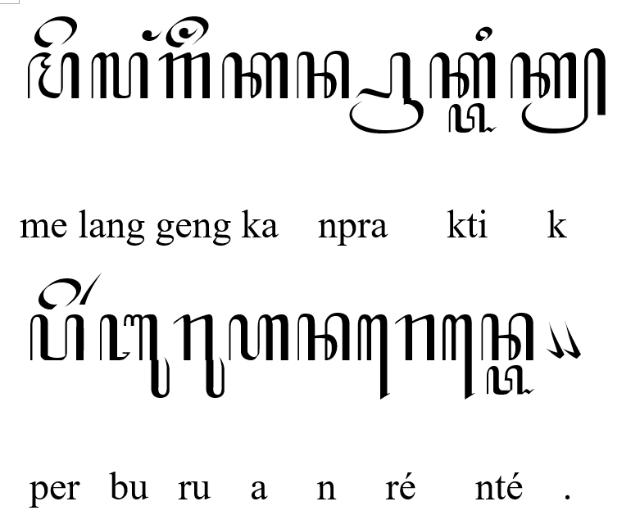-k: (510, 47, 608, 135)
_pr: (348, 51, 424, 135)
_r1: (80, 271, 102, 305)
_t: (448, 102, 498, 134), (486, 366, 536, 396)
bu: (98, 313, 170, 399)
e: (34, 15, 78, 49), (37, 278, 81, 310)
e1: (357, 314, 391, 402), (442, 314, 476, 400)
eng: (164, 15, 210, 48)
g: (158, 51, 212, 100)
h: (228, 314, 290, 362)
i: (474, 24, 494, 44)
k: (221, 50, 289, 100), (428, 51, 496, 99)
kom: (560, 322, 582, 360), (546, 322, 564, 360)
l: (90, 50, 148, 100)
m: (26, 52, 80, 100)
n: (294, 50, 350, 100), (296, 313, 350, 363), (481, 313, 534, 361)
ng: (142, 29, 162, 41)
p: (29, 314, 85, 362)
r: (395, 314, 437, 362)
ru: (172, 314, 225, 400)
